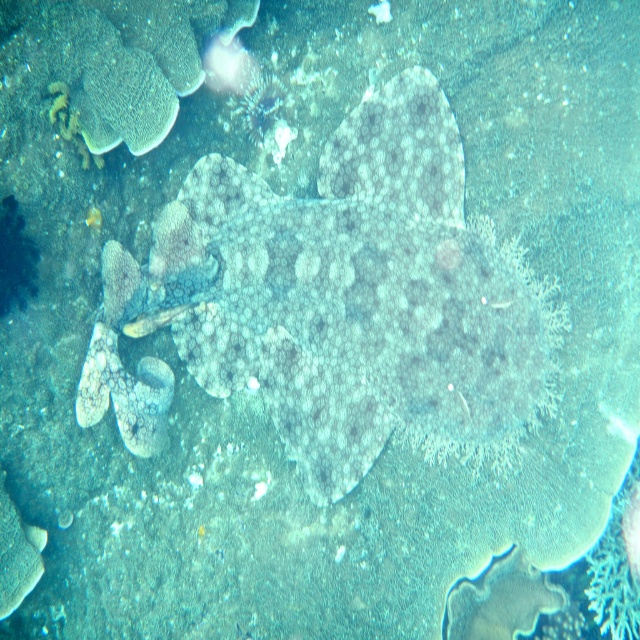Fish: (86, 201, 105, 230)
